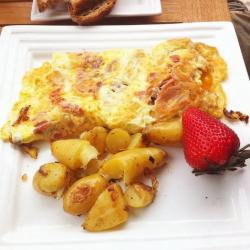omelette: (15, 48, 204, 122)
